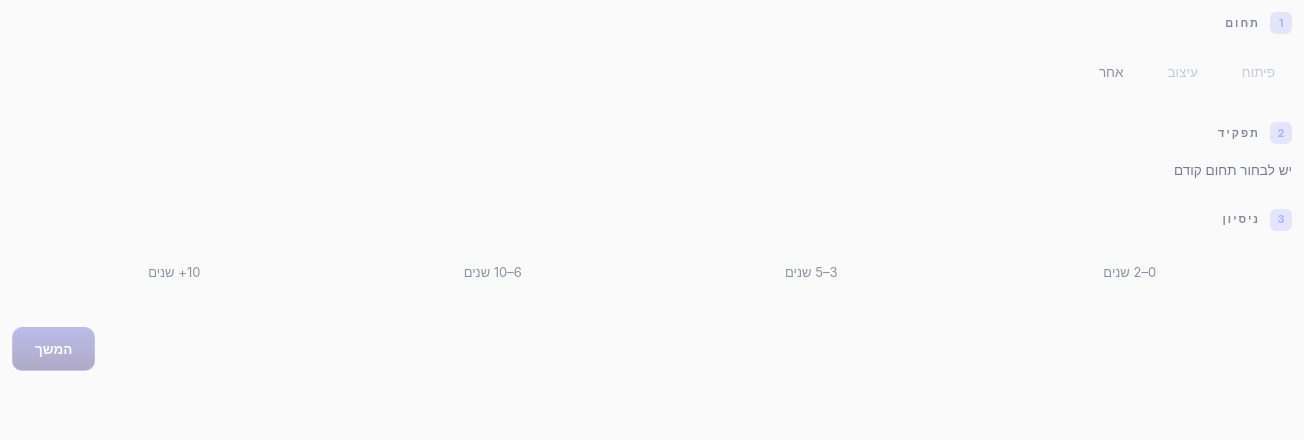
Scenario: AboutYouStep - unhappy path / edge cases › shows a load error when fetching Field-scoped roles fails for a genuine (non-prefill) Field change
Click the button "פיתוח". click: (1258, 72)
box: 1225,50 -> 1292,94
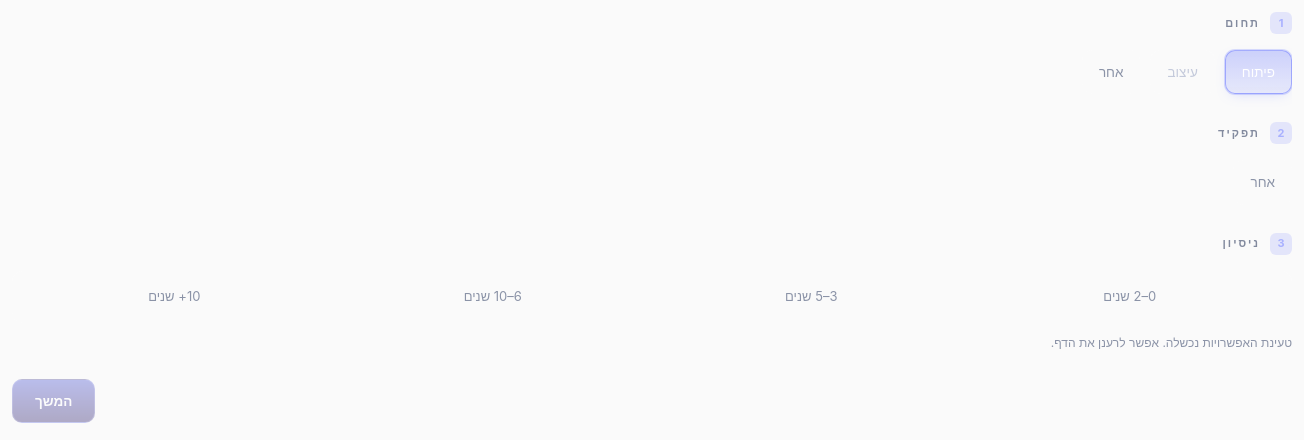
Now the text "טעינת האפשרויות נכשלה" is shown, box 1051,334 -> 1292,350
